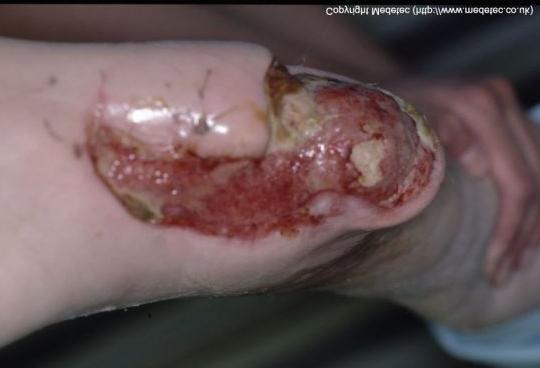NonPU: (63, 58, 440, 250)
